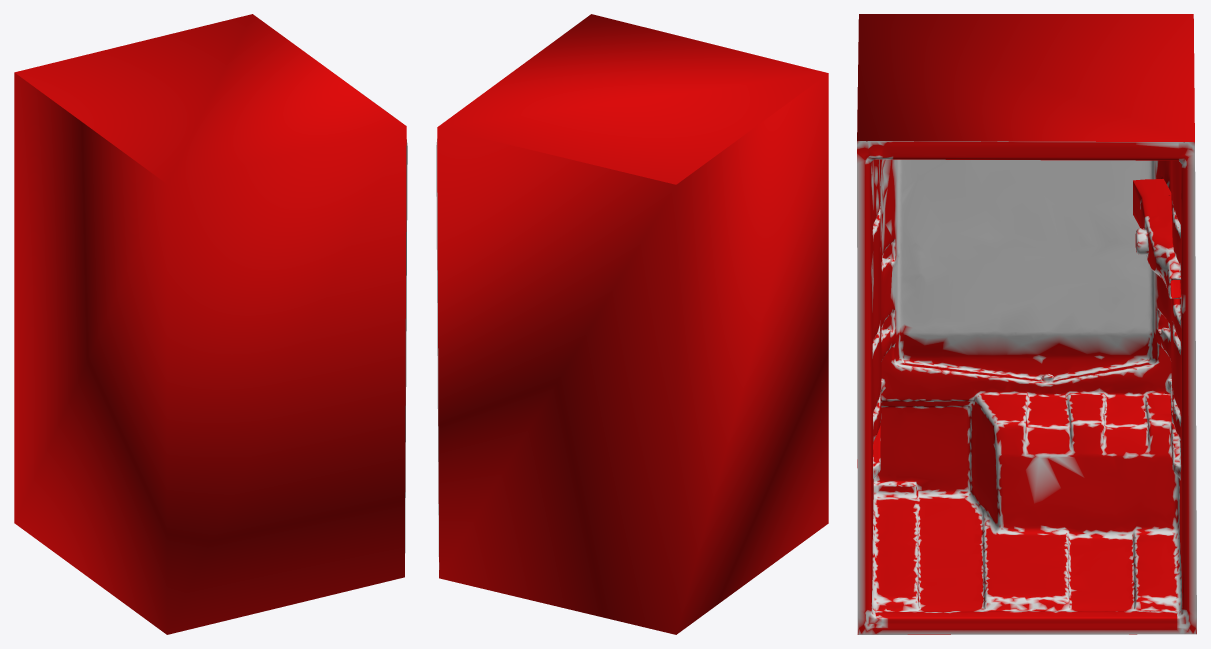
The model's file is IAIFridgeCasing.FBX.
The picture shows the model from 3 angles, left to right: view 1: azimuth 30°, elevation 25°; view 2: azimuth 150°, elevation 25°; view 3: azimuth 270°, elevation 25°; orthographic projection. The views are drawn at different scales.
Visible parts, largest first — view 1: SM_IAIFridgeCasing; view 2: SM_IAIFridgeCasing; view 3: SM_IAIFridgeCasing.
Boxes of the visible parts, x1,y1,x2,y2 form: SM_IAIFridgeCasing: (14,14,407,634); SM_IAIFridgeCasing: (436,14,828,634); SM_IAIFridgeCasing: (857,14,1196,634).
Size of what is drawn, in the model's own units: 49.27 by 55.15 by 88.59.
